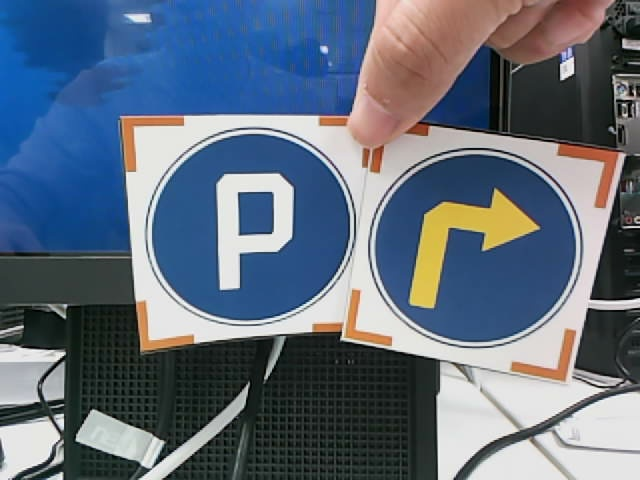park: (145, 127, 356, 326)
right: (369, 148, 584, 349)
